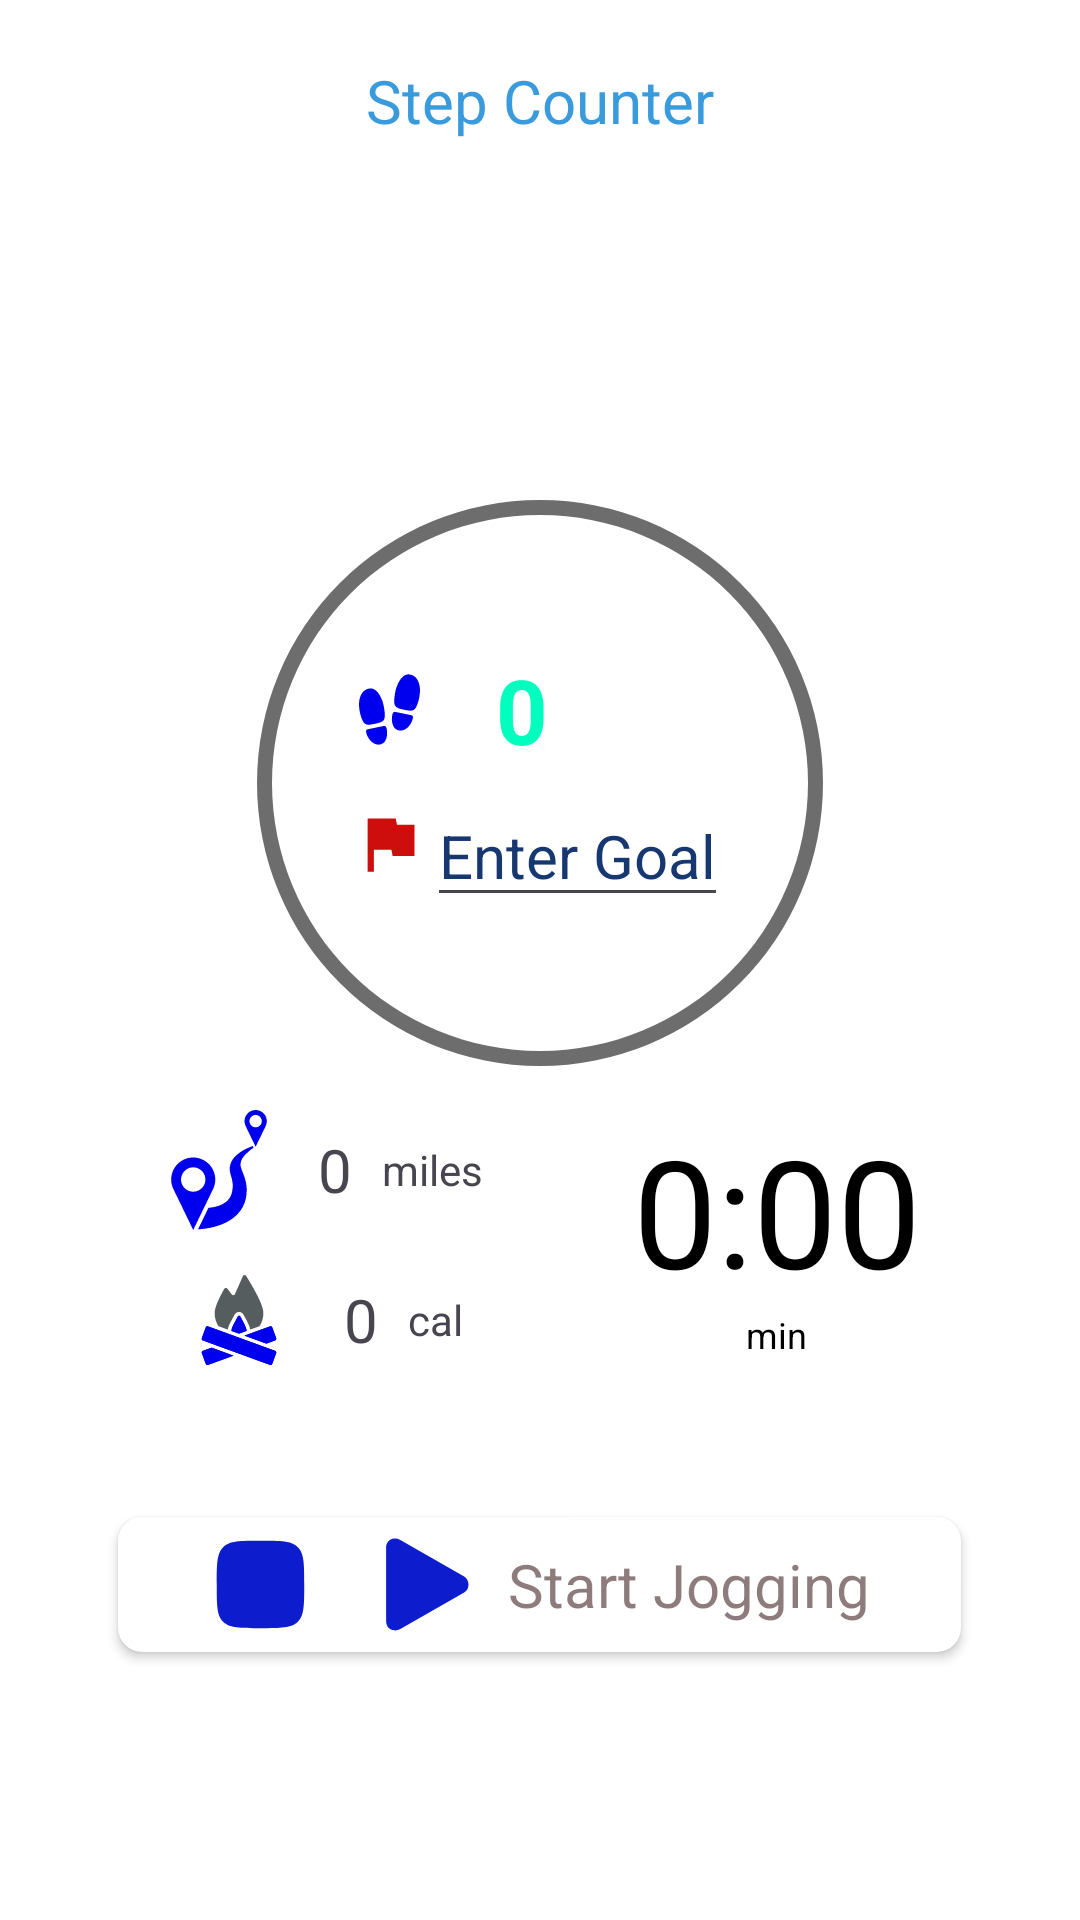

Screen size 1080px×1920px. Icon name, then its box in pixels as (x1, y1, x2, y2):
calories: (201, 1275, 277, 1365)
distance: (171, 1110, 267, 1230)
resume: (386, 1538, 469, 1631)
steps: (359, 674, 420, 745)
stop: (216, 1540, 305, 1629)
